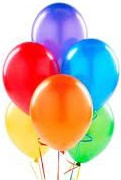Balloon: (30, 74, 93, 152)
